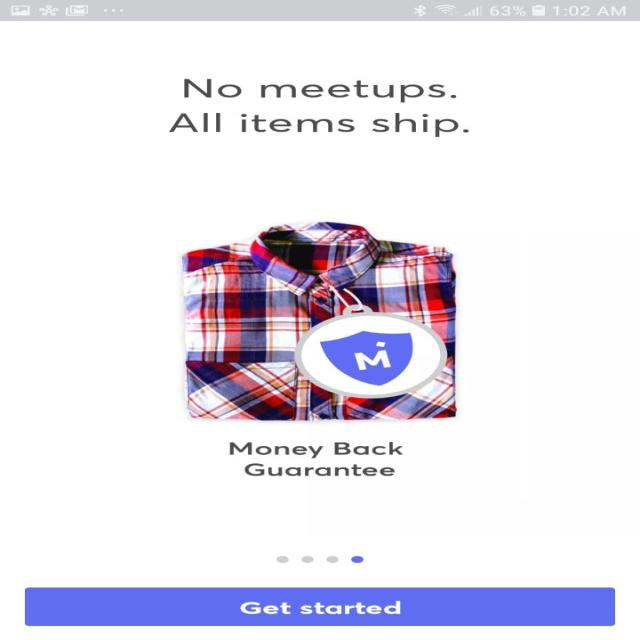Image: (181, 221, 457, 421)
Text: (168, 78, 470, 138), (228, 441, 402, 476)
TextButton: (24, 587, 614, 626)
